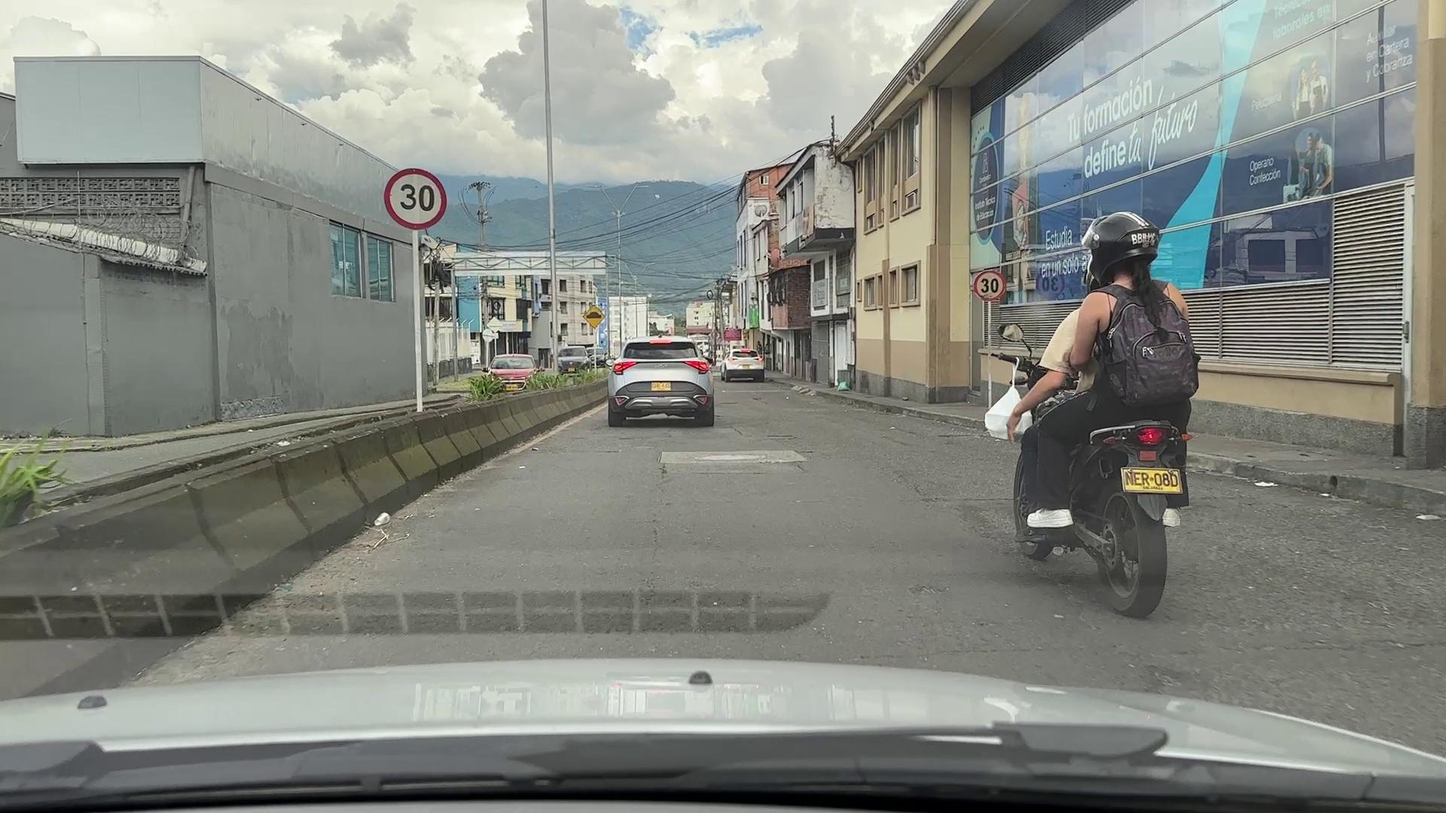grieta: (658, 463, 667, 479)
registro: (698, 454, 767, 461)
